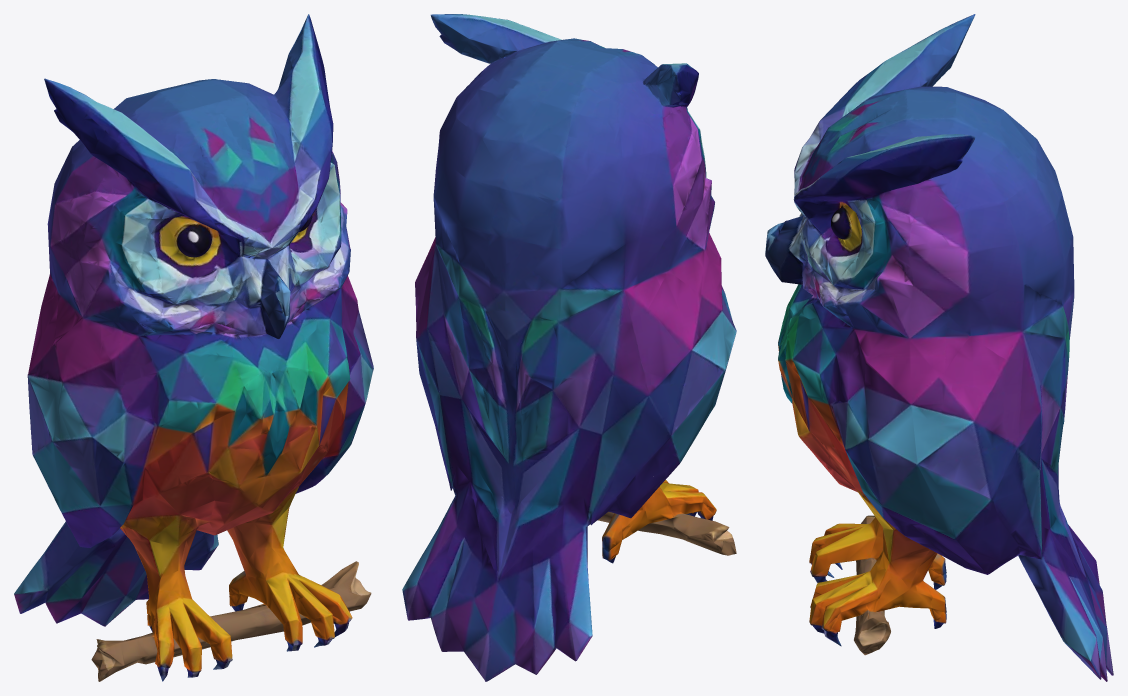
The model's file is owl.glb.
3 views of the same model, side by side, from view 1: azimuth 30°, elevation 25°; view 2: azimuth 150°, elevation 25°; view 3: azimuth 270°, elevation 25° (orthographic). The views are drawn at different scales.
Visible parts, largest first — view 1: tripo_node_ca4e87fa-957e-4cdb-8525-7a7ed715671c; view 2: tripo_node_ca4e87fa-957e-4cdb-8525-7a7ed715671c; view 3: tripo_node_ca4e87fa-957e-4cdb-8525-7a7ed715671c.
Part boxes in pixels (x1,y1,x2,y2): tripo_node_ca4e87fa-957e-4cdb-8525-7a7ed715671c: [14, 14, 373, 681]; tripo_node_ca4e87fa-957e-4cdb-8525-7a7ed715671c: [402, 14, 736, 681]; tripo_node_ca4e87fa-957e-4cdb-8525-7a7ed715671c: [765, 14, 1113, 681].
Size of the model in its own units: 0.5009 by 0.9803 by 0.5156.
Materials: 1 (1 with a texture image).
